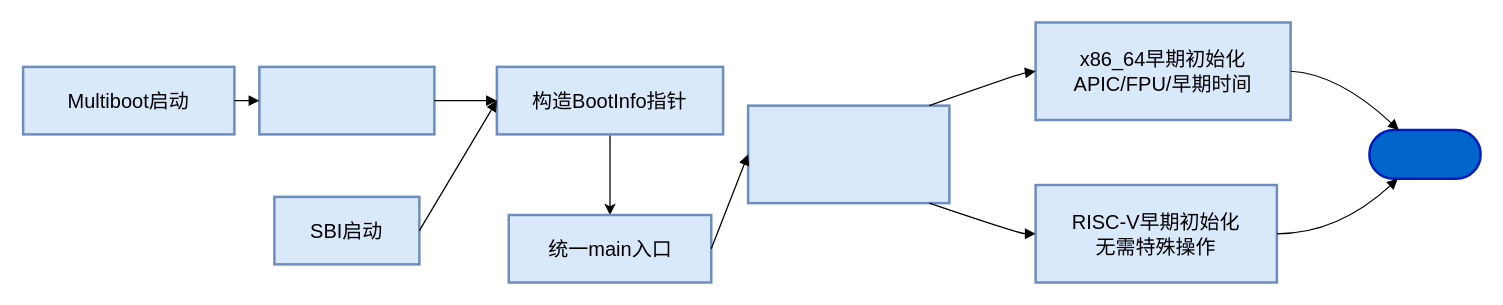
Image size: 1503x305. Some labels were removed from this diagram. Here are the shapes that lost their labels. From the top down, the centre of each, then its label:
At pixel 346 100: "设置长模式".
At pixel 848 154: "percpu初始化 设置GS/GP".
At pixel 1424 153: "引导完成".
